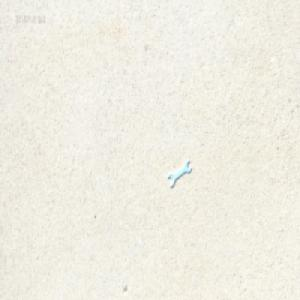Wrench: (166, 156, 190, 184)
